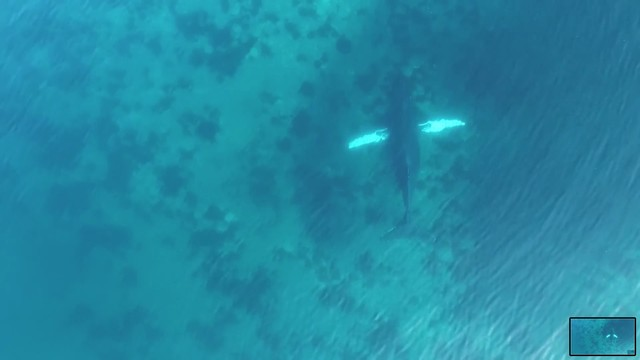whale: (341, 66, 474, 251)
